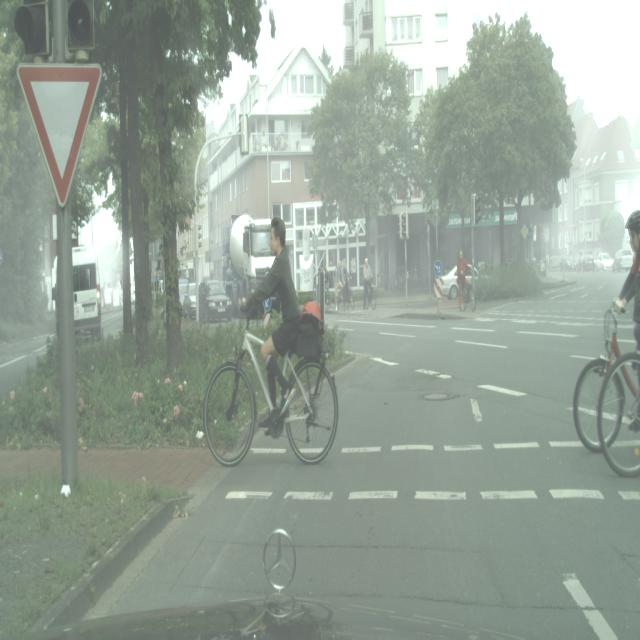bus: (196, 278, 232, 322), (180, 281, 197, 320), (595, 251, 613, 272), (613, 249, 628, 272), (578, 254, 597, 272), (612, 249, 623, 271)
car: (203, 307, 338, 466), (573, 209, 639, 454), (595, 316, 640, 477), (334, 258, 355, 310), (363, 257, 376, 310)
motorcycle: (52, 244, 101, 339)
person: (456, 248, 470, 310)
